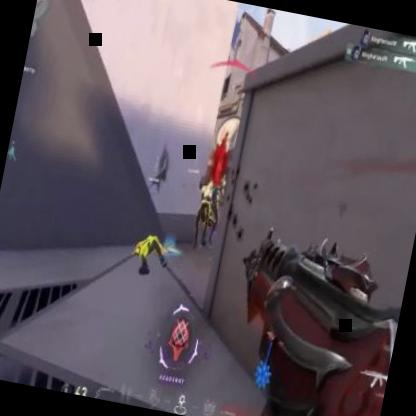enemy: (198, 163, 230, 248)
enemy_head: (218, 168, 226, 182)
